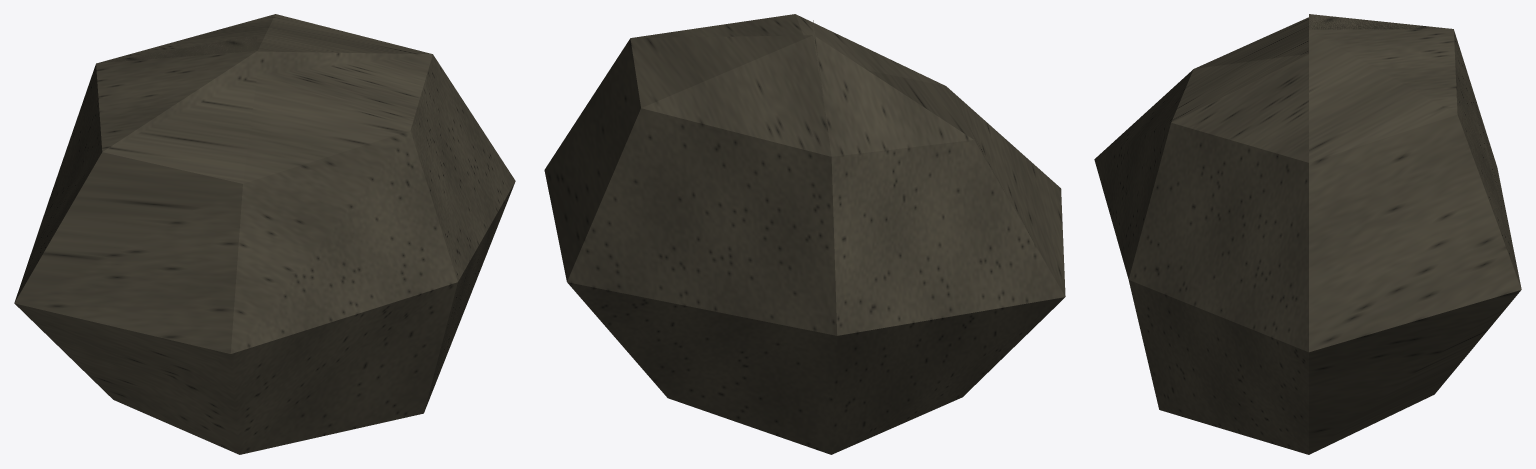
The model's file is PROP-4B85C37FDB2E_lod2.glb.
The picture shows the model from 3 angles, left to right: view 1: azimuth 30°, elevation 25°; view 2: azimuth 150°, elevation 25°; view 3: azimuth 270°, elevation 25°; orthographic projection. The views are drawn at different scales.
Parts seen in each view (by area): view 1: rock.002; view 2: rock.002; view 3: rock.002.
Part boxes in pixels (x1,y1,x2,y2): rock.002: [14, 14, 515, 454]; rock.002: [544, 14, 1065, 454]; rock.002: [1094, 14, 1521, 454].
Size of the model in its own units: 1.39 by 0.9182 by 1.02.
Materials: 1 (1 with a texture image).
